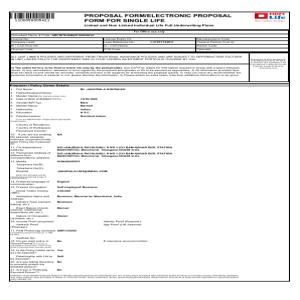image: (250, 12, 289, 25)
table: (11, 29, 289, 51)
text: (11, 84, 243, 281), (11, 65, 243, 78), (11, 54, 244, 62), (80, 12, 234, 24), (250, 54, 288, 74)
